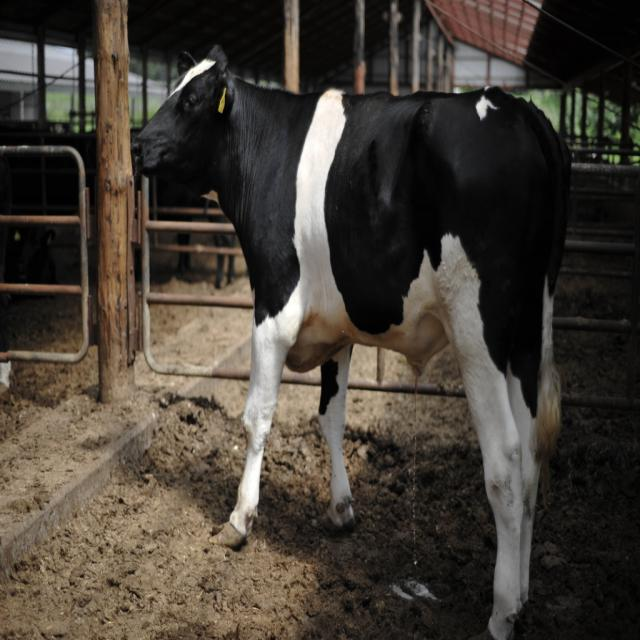Cattle: (130, 44, 571, 640)
